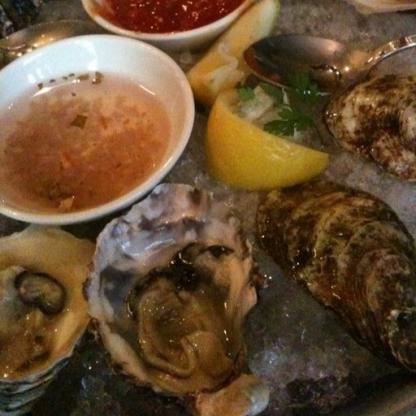oyster: (92, 187, 256, 410), (0, 220, 94, 409)
